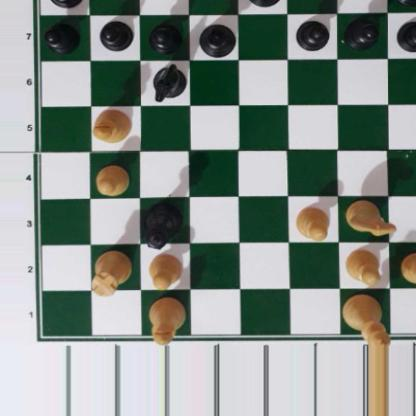black-bishop: (196, 24, 237, 59)
black-king: (243, 0, 285, 8)
black-knight: (149, 62, 187, 102)
black-pawn: (148, 21, 182, 53), (99, 19, 132, 51), (296, 17, 329, 49), (345, 16, 379, 47), (44, 21, 78, 51), (396, 18, 416, 52)
black-queen: (143, 200, 184, 251)
black-rook: (36, 0, 85, 8), (393, 0, 416, 5)
white-bishop: (148, 297, 188, 345), (91, 108, 132, 143)
white-king: (340, 292, 392, 347)
white-knight: (342, 198, 396, 236)
white-pawn: (343, 246, 383, 285), (146, 252, 183, 290), (295, 205, 332, 241), (94, 164, 131, 196), (399, 251, 416, 286)
white-rook: (91, 249, 130, 295)
